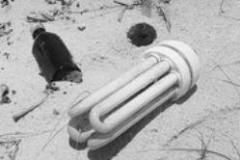lightbulb: (67, 38, 201, 150)
